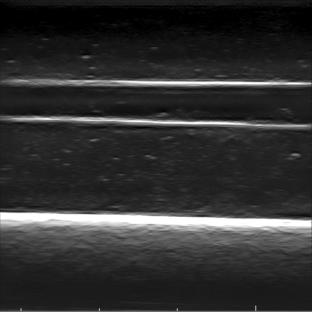vessel: (5, 78, 309, 128)
